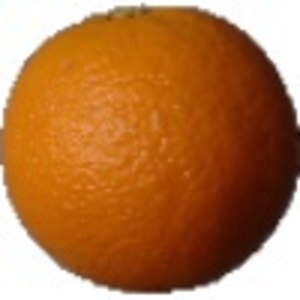laranja: (5, 6, 294, 296)
